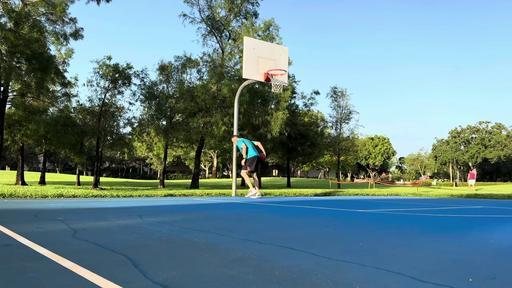human: (231, 135, 266, 199)
rim: (268, 68, 286, 92)
